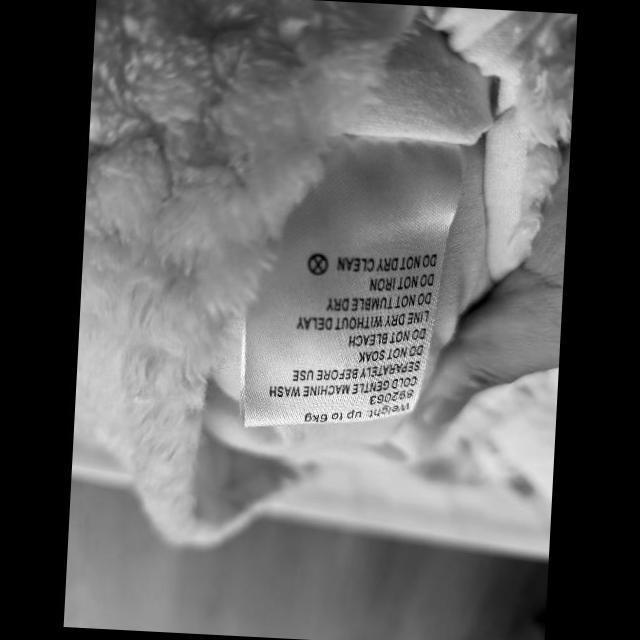DN_dry_clean: (304, 250, 330, 278)
